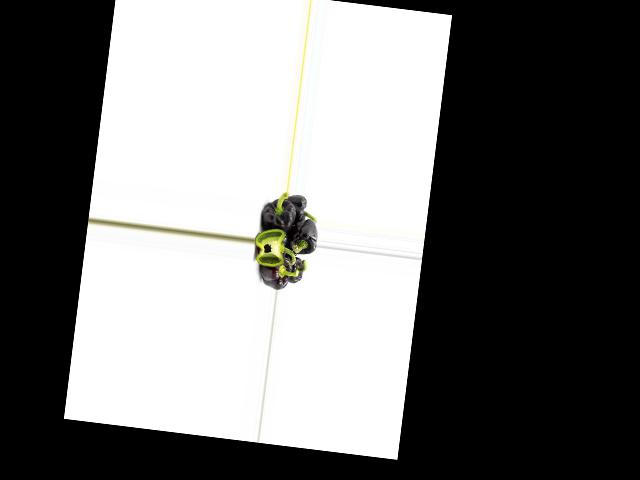bell_pepper: (259, 247, 294, 290)
